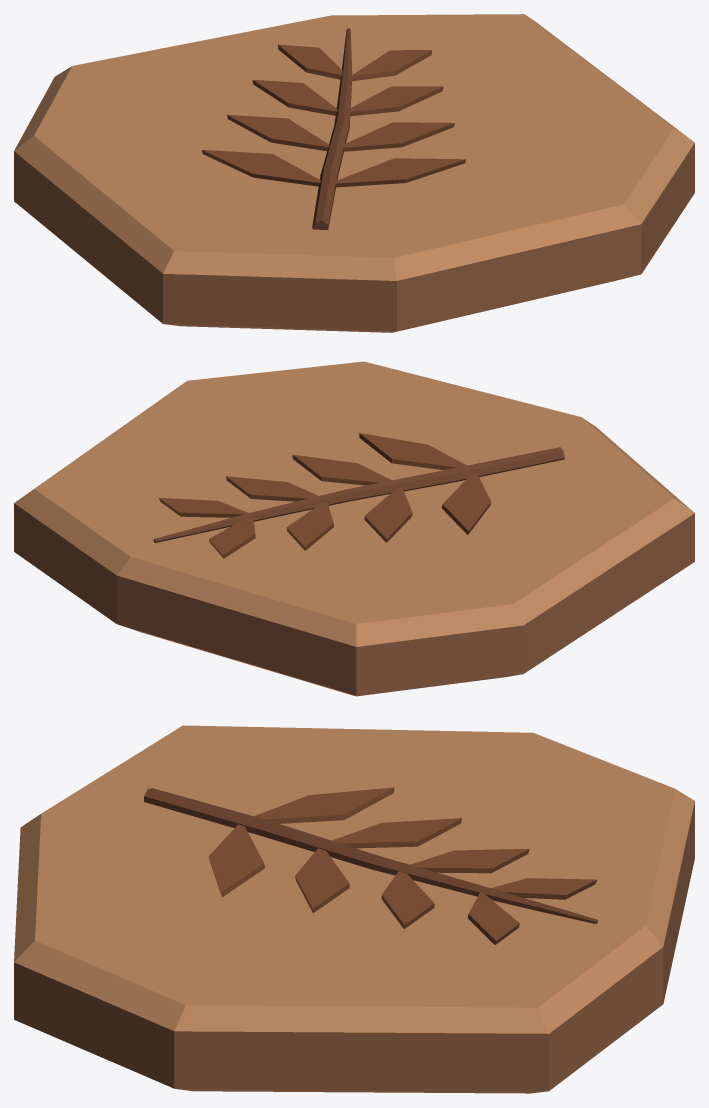
Rendered from oase_05.glb.
The picture shows the model from 3 angles, top to bottom: view 1: azimuth 30°, elevation 25°; view 2: azimuth 150°, elevation 25°; view 3: azimuth 270°, elevation 25°; orthographic projection. The views are drawn at different scales.
Visible parts, largest first — view 1: oase_05; view 2: oase_05; view 3: oase_05.
Boxes of the visible parts, x1,y1,x2,y2 form: oase_05: [14, 14, 694, 332]; oase_05: [14, 361, 694, 696]; oase_05: [14, 725, 694, 1093].
Bounding box in the file's own units: 2 × 0.3204 × 1.92.
